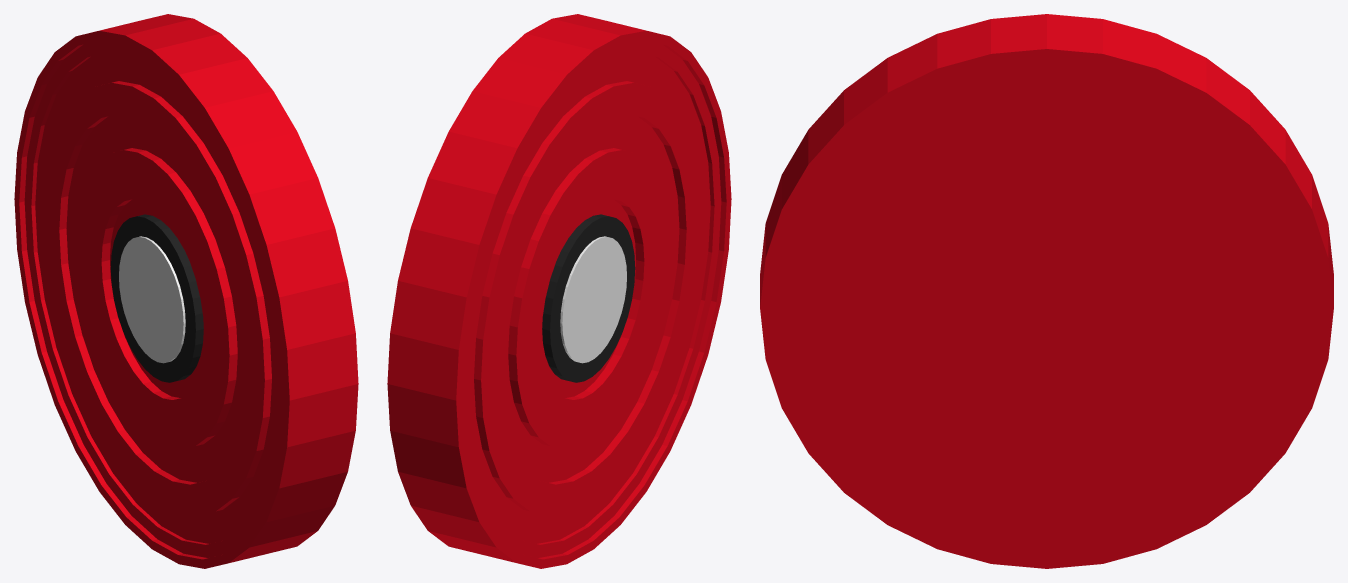
File: Brandslang_eetzaal_morgbeka.glb
3 renders of one model, left to right at view 1: azimuth 30°, elevation 25°; view 2: azimuth 150°, elevation 25°; view 3: azimuth 270°, elevation 25°, orthographic. The views are drawn at different scales.
Parts seen in each view (by area): view 1: Cylinder; view 2: Cylinder; view 3: Cylinder.
Boxes of the visible parts, x1,y1,x2,y2 form: Cylinder: [14, 14, 358, 568]; Cylinder: [387, 14, 731, 568]; Cylinder: [760, 14, 1333, 568].
Size of the model in its own units: 0.0851 by 0.5827 by 0.5827.
